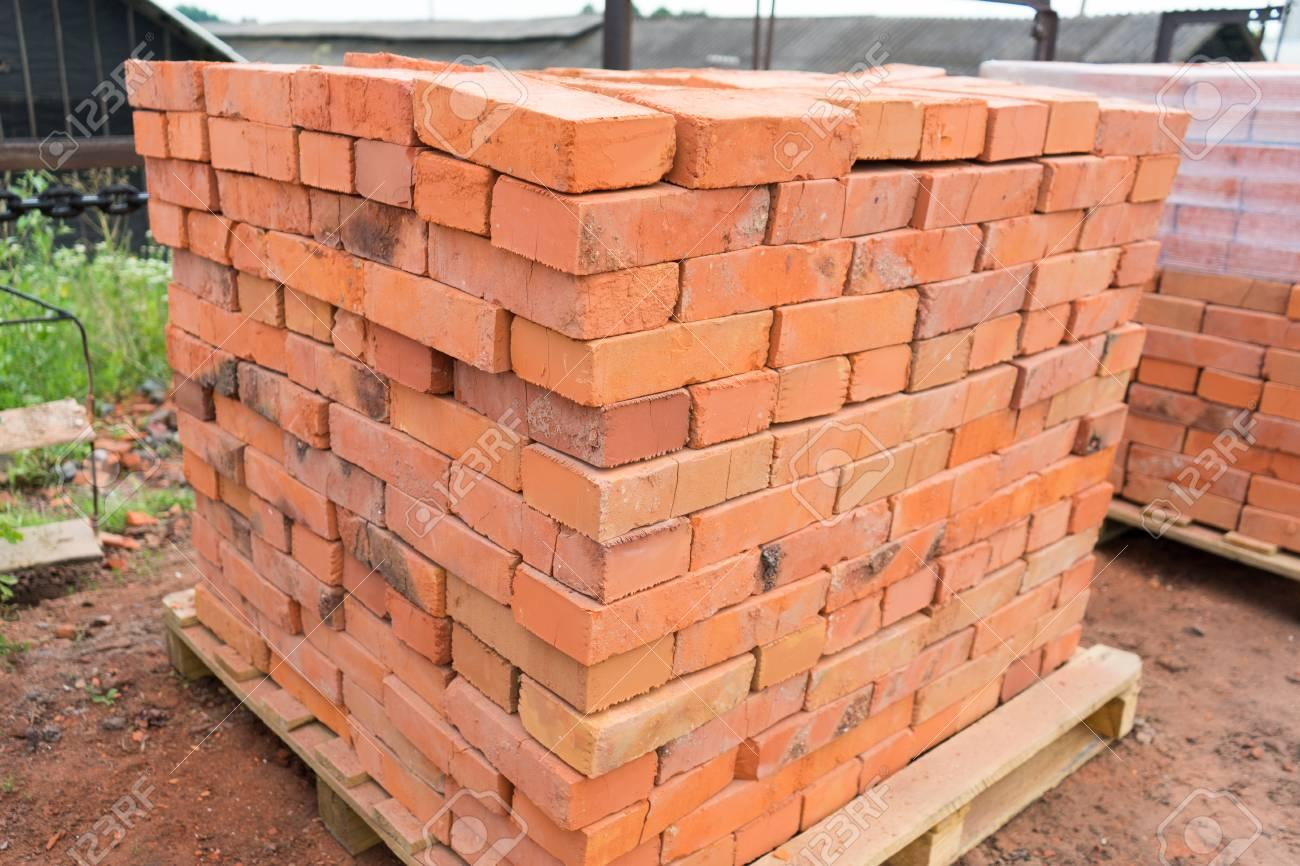Bricks: (666, 706, 910, 862), (446, 676, 672, 834), (450, 582, 684, 720), (256, 238, 488, 374), (516, 660, 750, 790), (504, 548, 766, 662), (520, 430, 782, 538), (416, 86, 676, 194), (430, 230, 680, 342), (492, 176, 766, 278), (504, 310, 774, 400), (448, 364, 686, 464), (660, 672, 814, 790), (382, 484, 520, 614), (858, 680, 998, 790), (678, 572, 826, 676), (336, 684, 462, 806), (690, 356, 846, 452), (682, 470, 836, 564), (384, 682, 492, 816), (390, 382, 520, 490), (682, 240, 850, 320), (740, 684, 876, 782), (320, 406, 448, 510), (342, 716, 444, 846), (554, 516, 688, 612), (334, 604, 450, 714), (804, 610, 926, 714), (776, 398, 908, 492), (446, 468, 560, 576), (338, 504, 434, 630), (340, 560, 448, 672), (426, 72, 666, 122), (822, 516, 944, 614), (764, 498, 890, 592), (278, 324, 394, 424), (684, 118, 858, 182), (772, 292, 922, 366), (916, 630, 1032, 722), (836, 432, 956, 520), (164, 280, 280, 370), (630, 84, 856, 130), (854, 222, 986, 298), (502, 796, 644, 865), (900, 452, 1008, 542), (282, 430, 382, 526), (246, 528, 342, 624), (900, 366, 1012, 448), (292, 68, 412, 144), (312, 196, 426, 276), (866, 634, 974, 718), (646, 748, 738, 846), (328, 312, 436, 394), (918, 264, 1032, 340), (928, 562, 1022, 652), (1124, 472, 1246, 540), (1008, 328, 1104, 414), (298, 608, 384, 704), (940, 516, 1028, 608), (256, 612, 342, 706), (1128, 378, 1246, 446), (238, 454, 326, 542), (970, 574, 1058, 660), (688, 800, 802, 865), (190, 590, 276, 672), (944, 482, 1038, 556), (454, 794, 550, 865), (1186, 432, 1299, 492), (952, 404, 1054, 470), (234, 362, 316, 444), (1136, 320, 1262, 372), (264, 654, 340, 740), (1158, 266, 1290, 314), (930, 164, 1046, 218), (414, 154, 490, 236), (200, 66, 296, 130), (448, 626, 520, 710), (1022, 524, 1100, 600), (1036, 156, 1138, 214), (208, 390, 284, 466), (1030, 244, 1120, 308), (1010, 410, 1084, 486), (752, 624, 830, 696), (1130, 450, 1242, 500), (216, 172, 302, 236), (162, 332, 240, 402), (990, 212, 1086, 268), (216, 546, 280, 628), (1048, 372, 1134, 432), (846, 340, 914, 412), (208, 120, 296, 174), (222, 482, 290, 550), (176, 418, 246, 482), (852, 110, 928, 168), (848, 164, 920, 224), (1044, 444, 1120, 500), (916, 334, 980, 398), (780, 184, 848, 244), (1084, 208, 1168, 256), (802, 760, 862, 826), (1068, 284, 1142, 336), (174, 250, 236, 308), (1100, 108, 1184, 150), (126, 58, 192, 110), (1236, 500, 1299, 554), (198, 494, 256, 552), (354, 142, 410, 202), (832, 592, 886, 654), (924, 104, 986, 158), (1036, 584, 1088, 648), (1200, 366, 1264, 418), (284, 526, 338, 586), (1210, 308, 1300, 344), (890, 564, 940, 628), (1138, 348, 1202, 398), (446, 812, 506, 865), (1240, 414, 1299, 462), (146, 164, 210, 206), (1066, 476, 1110, 536), (1040, 622, 1084, 682), (300, 134, 350, 186), (1130, 158, 1180, 210), (1028, 500, 1078, 552), (1020, 304, 1070, 354), (1050, 102, 1098, 154), (1084, 402, 1130, 456), (284, 298, 332, 348), (992, 110, 1046, 154), (186, 208, 228, 264), (976, 318, 1018, 374), (1252, 382, 1299, 432), (228, 274, 280, 318), (1256, 344, 1299, 396), (1250, 474, 1299, 518), (1114, 242, 1160, 288), (1098, 326, 1142, 370), (996, 654, 1038, 696), (148, 206, 186, 250), (170, 380, 216, 414), (130, 112, 164, 156), (234, 222, 262, 274), (186, 458, 220, 500), (1056, 556, 1090, 598), (1152, 294, 1196, 326), (192, 510, 218, 560), (168, 118, 200, 158)
